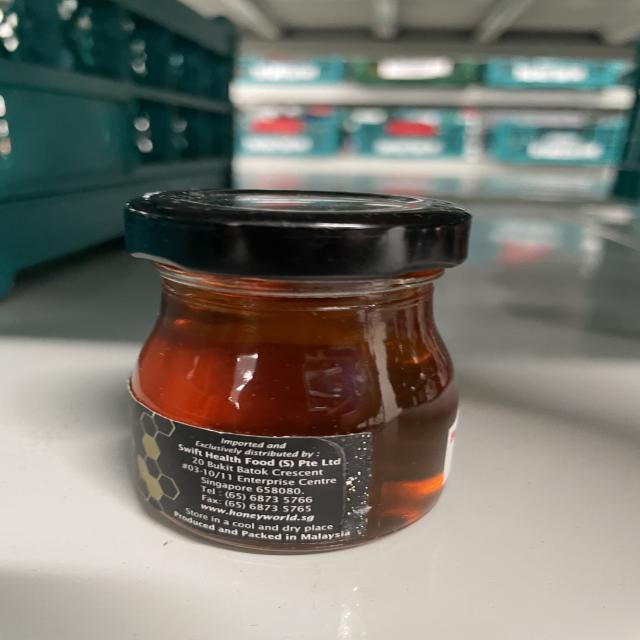object_name: (124, 195, 463, 556)
